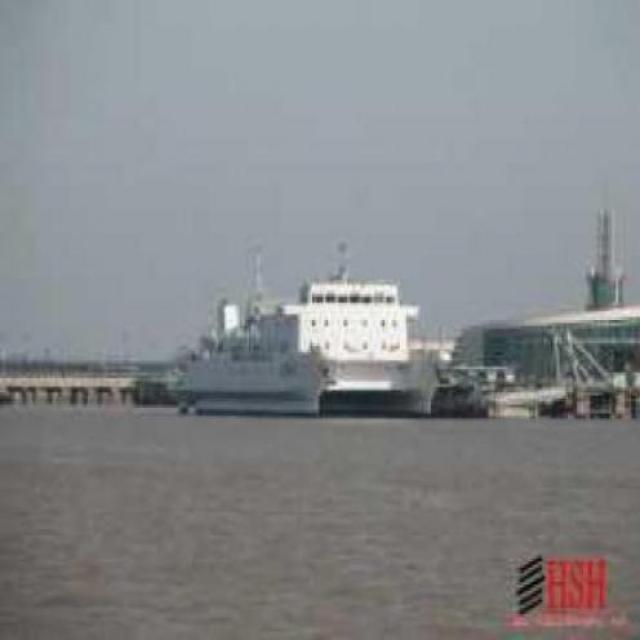boat: (157, 279, 448, 432)
